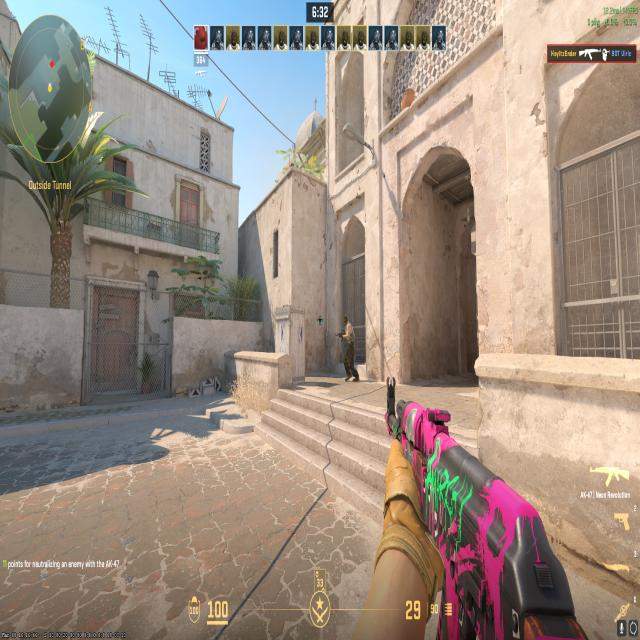t: (339, 311, 362, 384)
